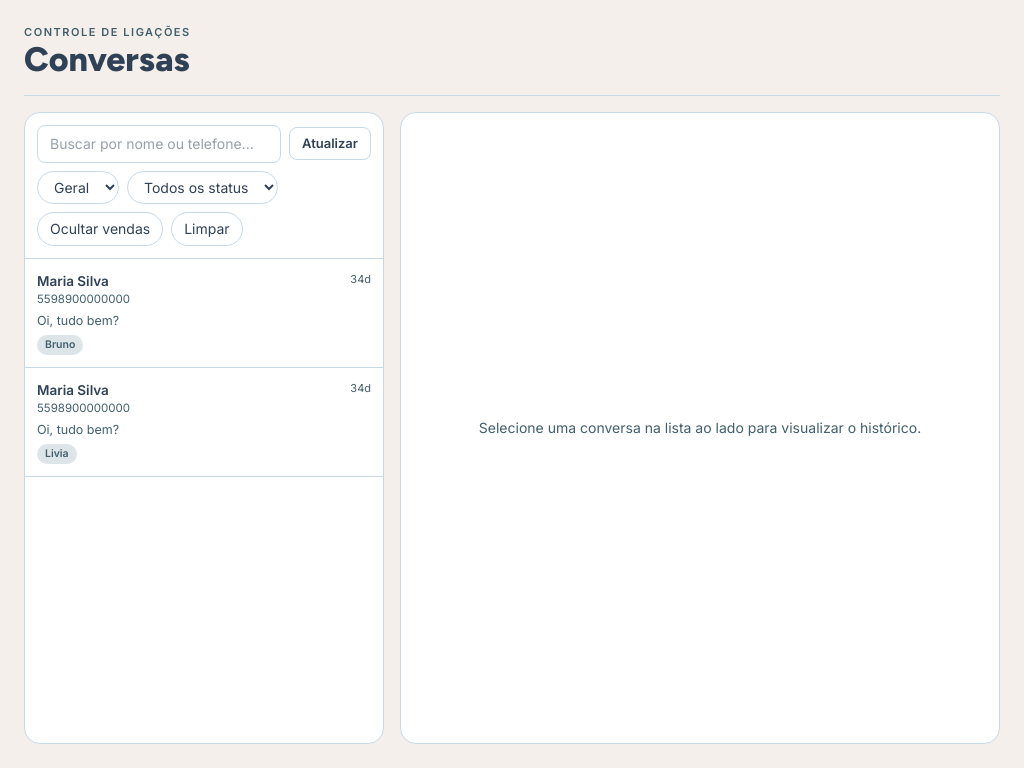
Test case: ConversasPage — painel de chat › trocar entre duas conversas do mesmo contato (números remetentes diferentes) sempre recarrega as mensagens e move o destaque visual
The width and height of the screenshot is (1024, 768).
What coordinates should you click on to do the following:
click the button "Bruno"
I would click on:
 (73, 280)
Its box is [25,258,383,368].
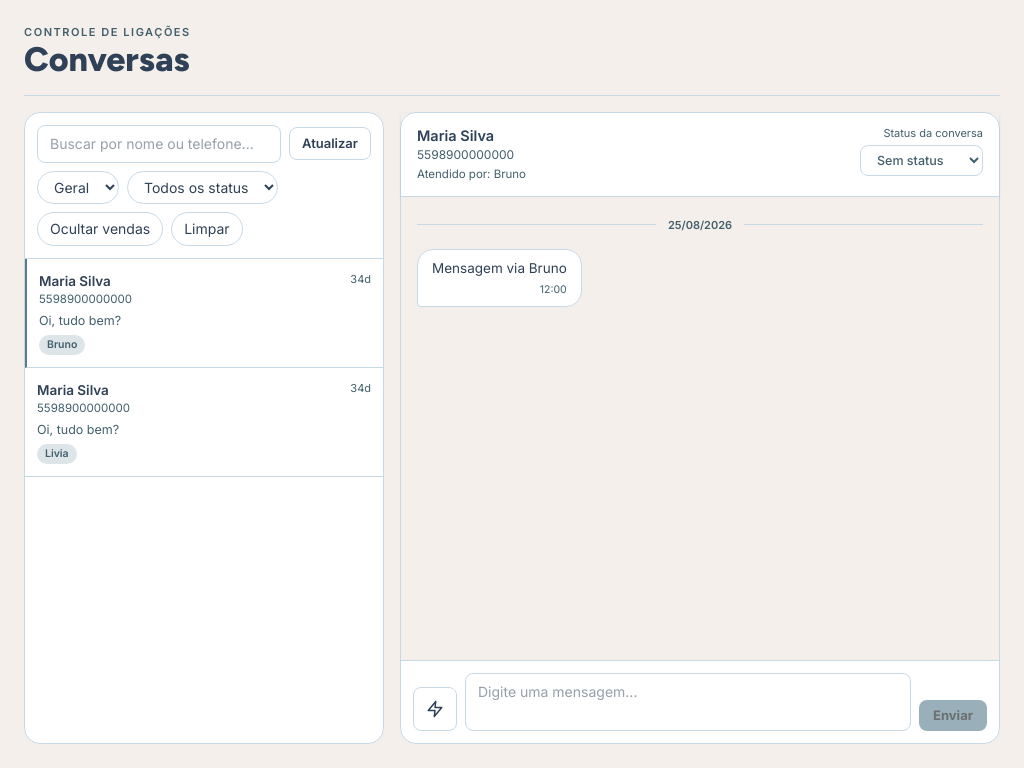
Now the text "Mensagem via Bruno" is shown, box [432,258,567,278]
What coordinates should you click on to do the following:
click the button "Livia"
I would click on:
 (73, 390)
Its box is [25,368,383,476].
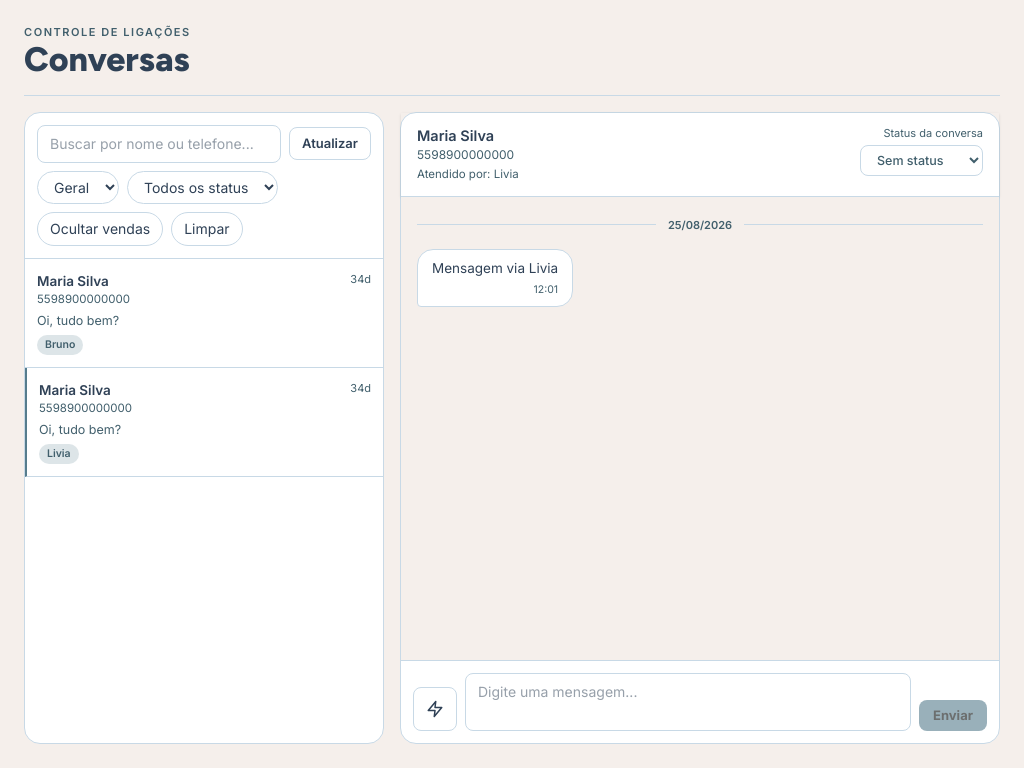
Now the text "Mensagem via Livia" is shown, box [432,258,558,278]
